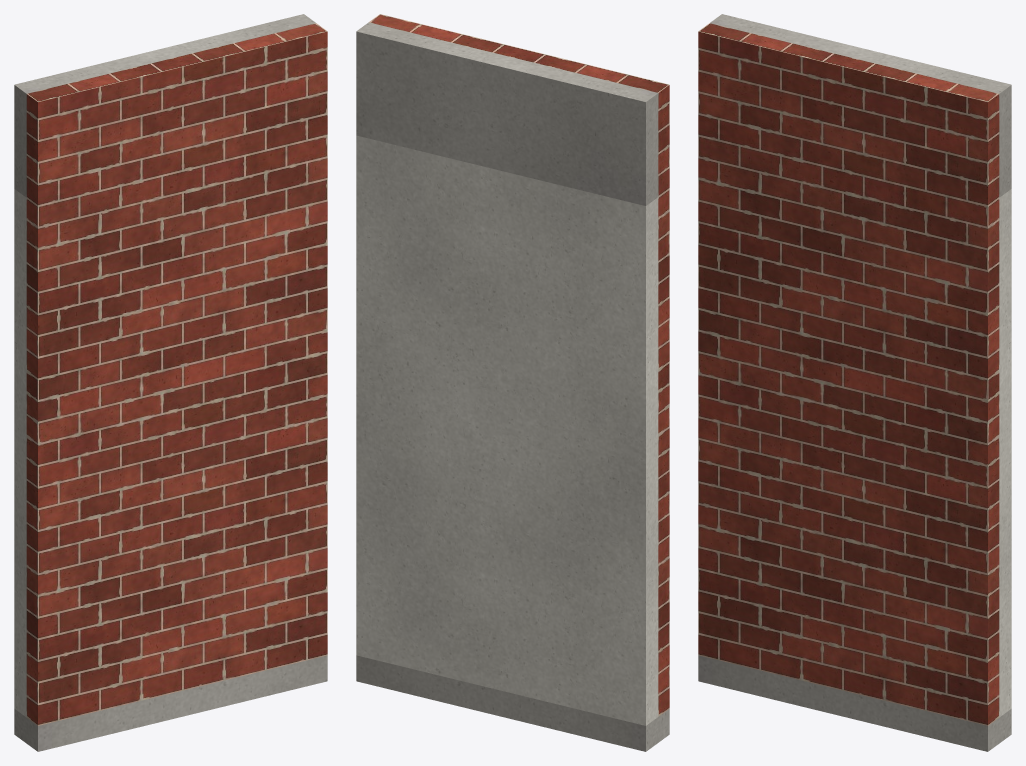
File: w_plain_l.glb
3 renders of one model, left to right at view 1: azimuth 30°, elevation 25°; view 2: azimuth 150°, elevation 25°; view 3: azimuth 330°, elevation 25°, orthographic.
Parts seen in each view (by area): view 1: w_plain_l_brick, w_plain_l_concrete, w_plain_l_plaster; view 2: w_plain_l_plaster, w_plain_l_concrete, w_plain_l_brick; view 3: w_plain_l_brick, w_plain_l_concrete, w_plain_l_plaster.
Part boxes in pixels (box(x1,y1,x2,y2)): w_plain_l_brick: box(26, 23, 327, 725); w_plain_l_concrete: box(14, 14, 327, 751); w_plain_l_plaster: box(14, 189, 26, 717); w_plain_l_plaster: box(356, 135, 658, 725); w_plain_l_concrete: box(356, 22, 669, 751); w_plain_l_brick: box(369, 14, 669, 716); w_plain_l_brick: box(698, 23, 999, 725); w_plain_l_concrete: box(698, 14, 1011, 751); w_plain_l_plaster: box(999, 189, 1011, 717).
Size of the model in its own units: 1.75 by 3.75 by 0.25.
Materials: 3 (3 with a texture image).
